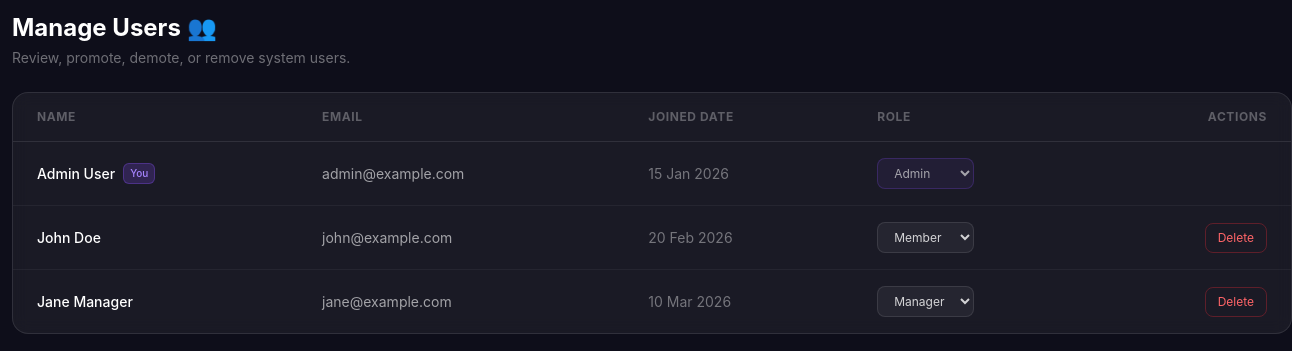
ManageUsers › deletes a user after confirmation
Expected: the text "John Doe" is shown, [37,228,101,246]
Click the button "Delete" in the row of "John Doe": (1236, 238) [1205,222,1267,252]
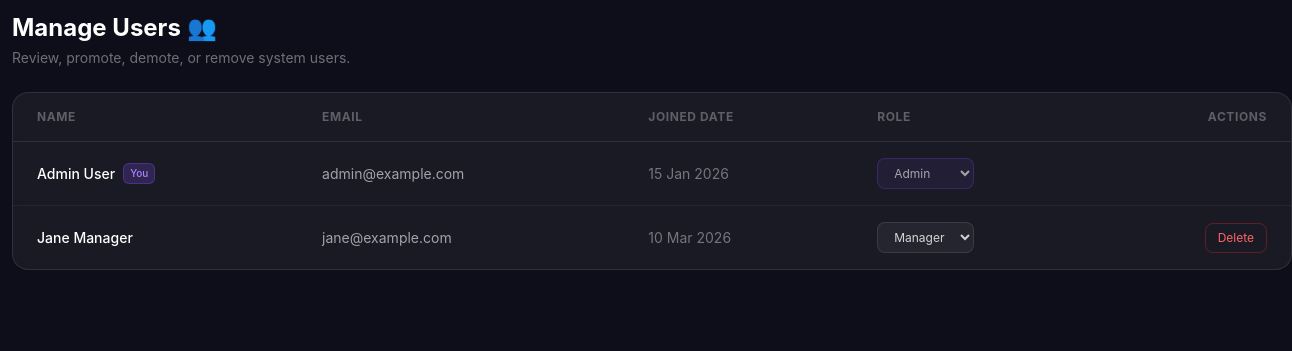
Expected: the text "John Doe" is gone
